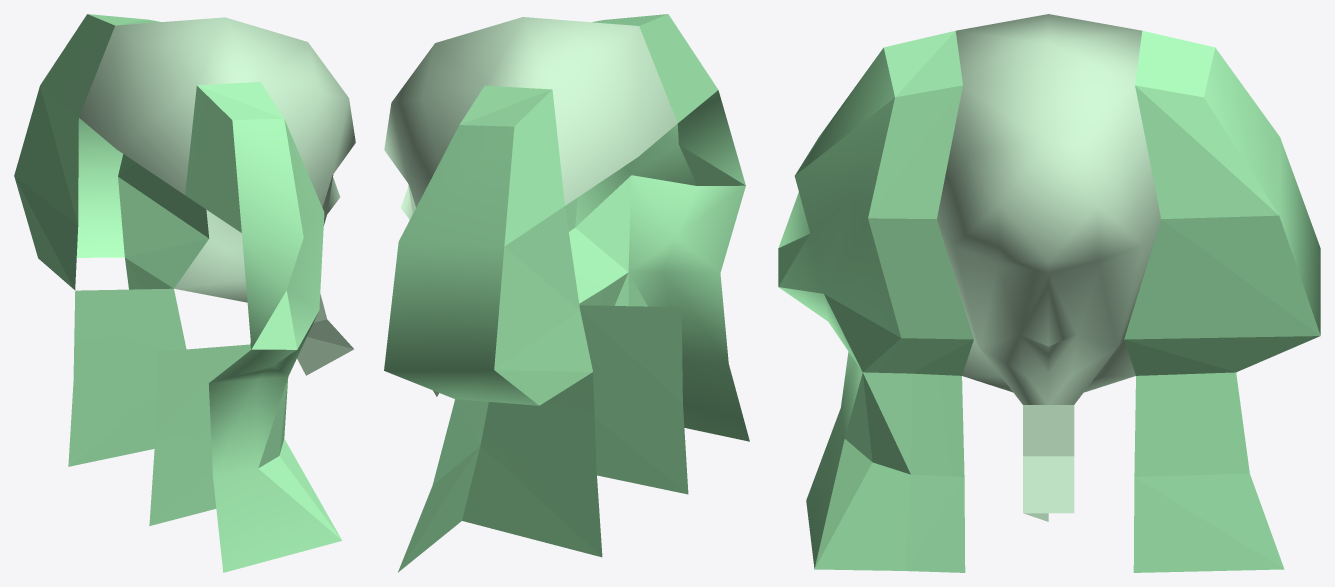
3 renders of one model, left to right at view 1: azimuth 30°, elevation 25°; view 2: azimuth 150°, elevation 25°; view 3: azimuth 270°, elevation 25°, orthographic. The views are drawn at different scales.
Visible parts, largest first — view 1: Object15; view 2: Object15; view 3: Object15.
Boxes of the visible parts, bbox=[...] form: Object15: bbox=[14, 14, 355, 572]; Object15: bbox=[384, 14, 749, 572]; Object15: bbox=[778, 14, 1320, 572].
Size of the model in its own units: 221 by 409 by 389.
